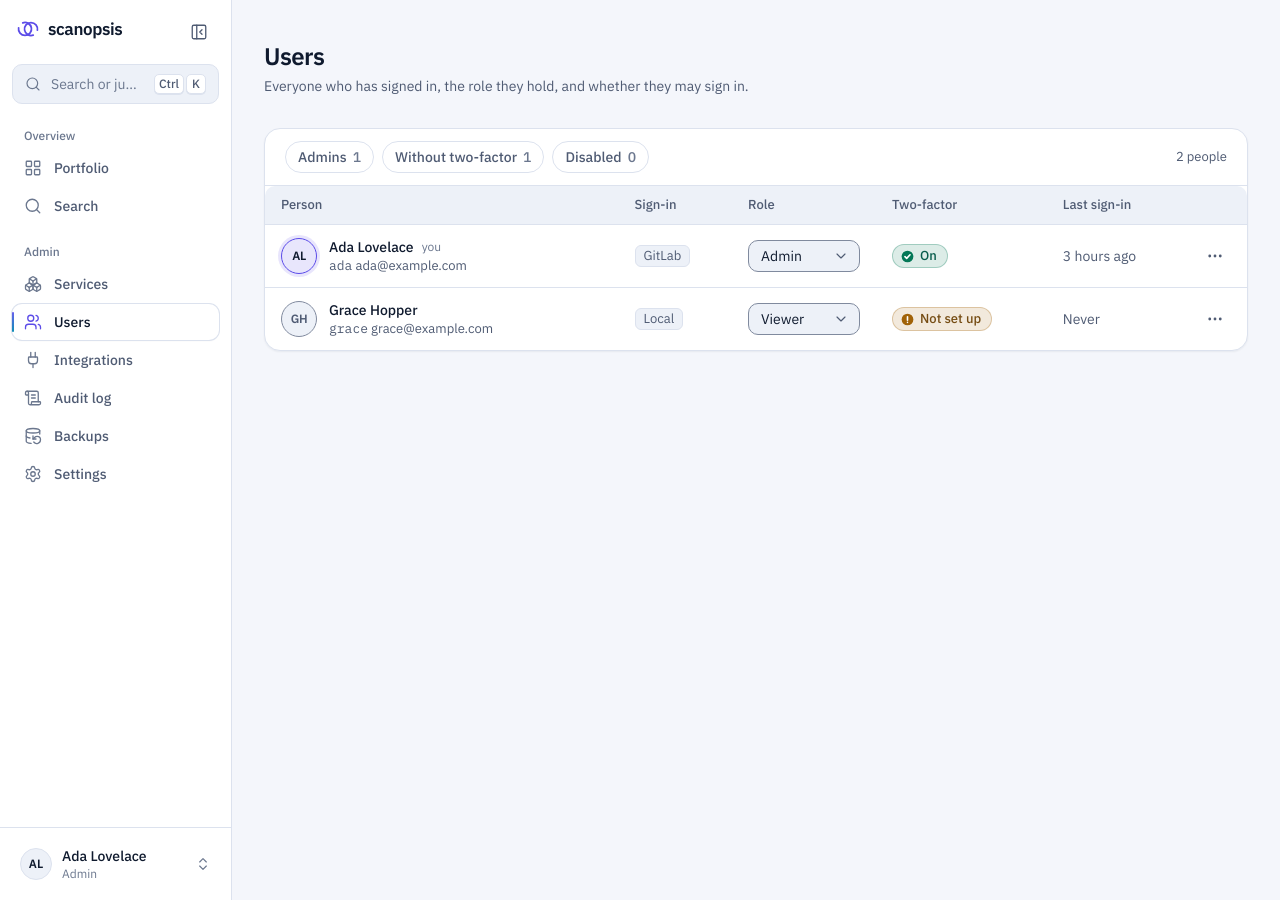
users page › reports a refused role change in a toast and keeps the saved role
Press Enter in the dropdown named "Role for ada", box [748, 240, 860, 272]
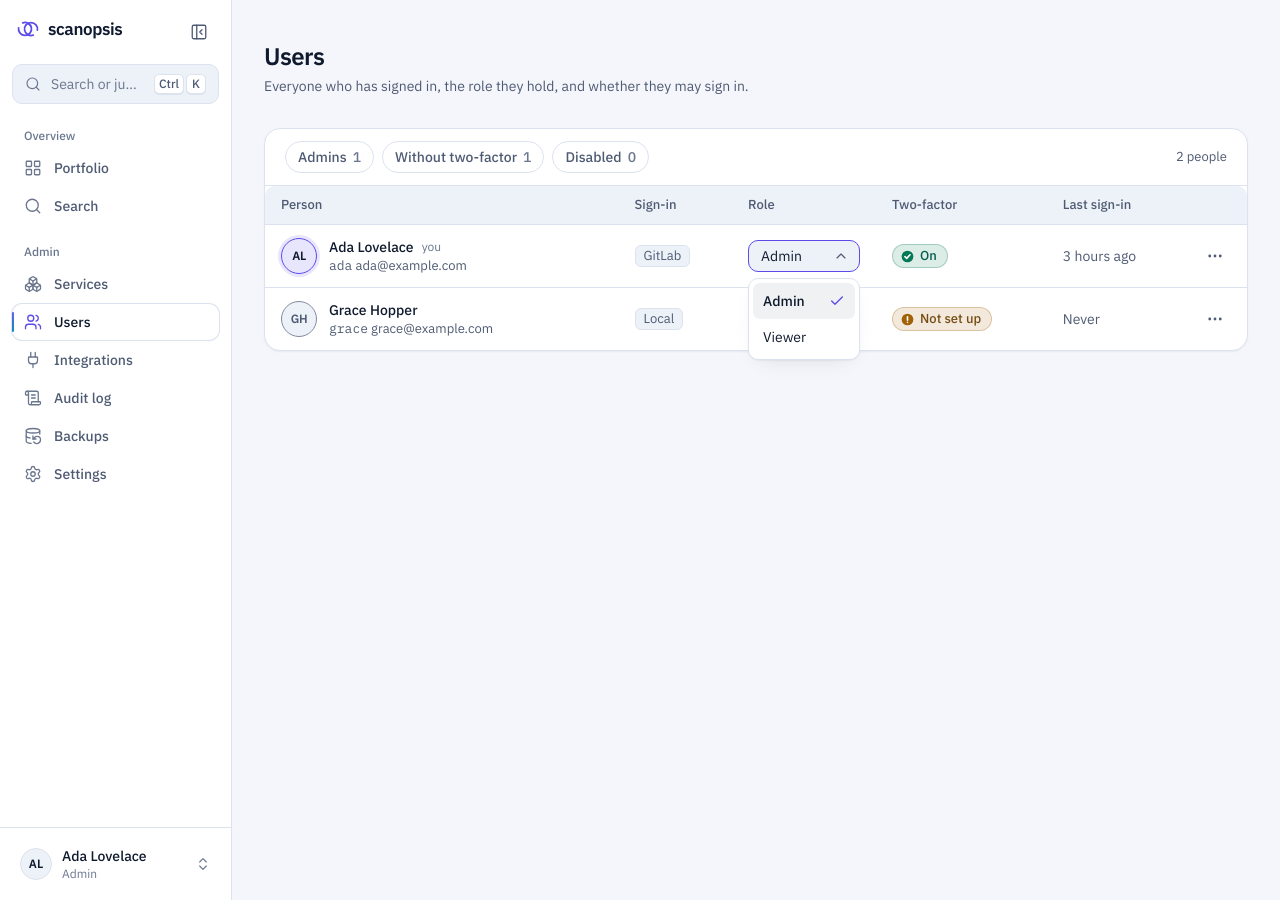
Click the option "Viewer": (785, 337) [763, 328, 806, 346]
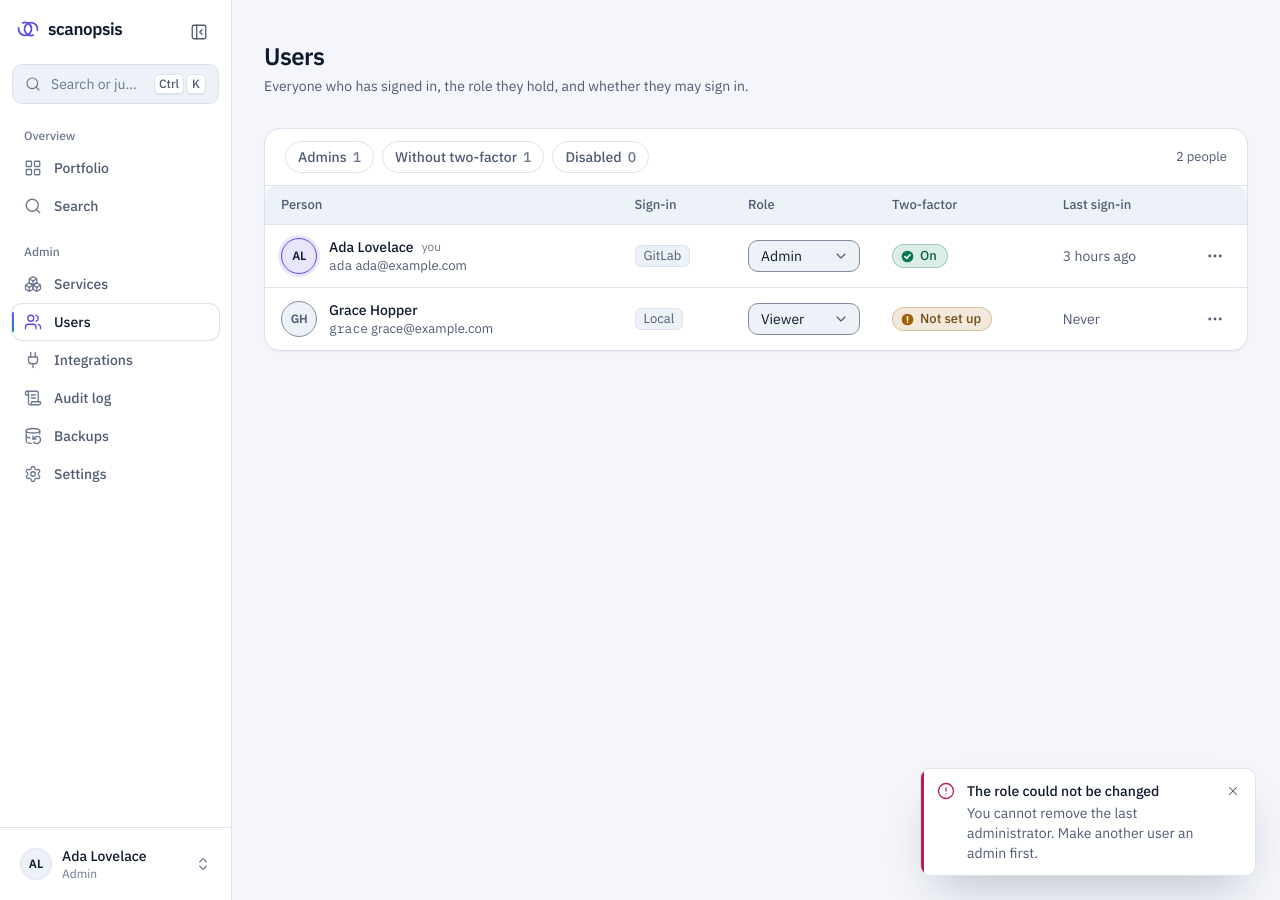
Expected: the dropdown named "Role for ada" reads "Admin", [748, 240, 860, 272]
Expected: the text "The role could not be changed" is shown, [967, 782, 1159, 800]
Expected: the text "You cannot remove the last administrator. Make another user an admin first." is shown, [967, 803, 1215, 863]
